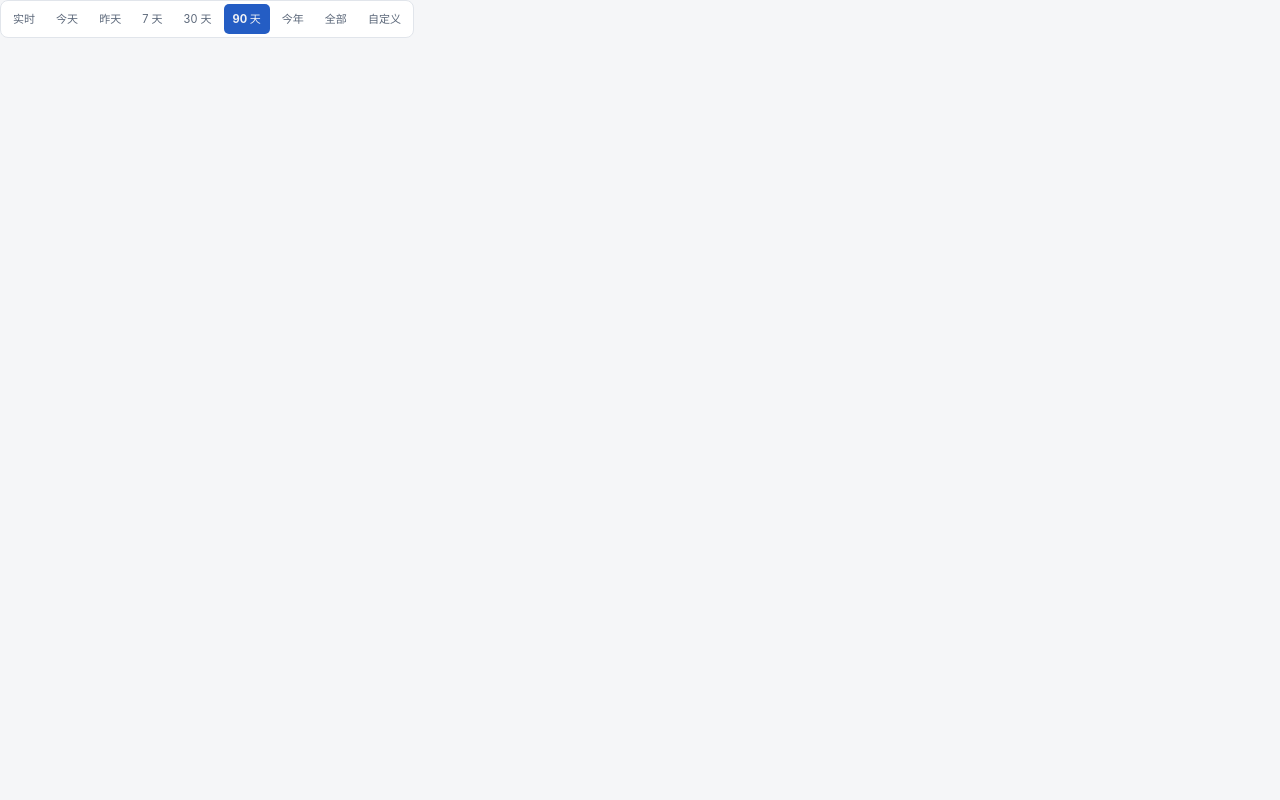
Test: RangeSelector › marks custom as selected while its dialog is open
The width and height of the screenshot is (1280, 800).
Step 1. Click the button "自定义" → x=384, y=19, box [359,4,410,34]
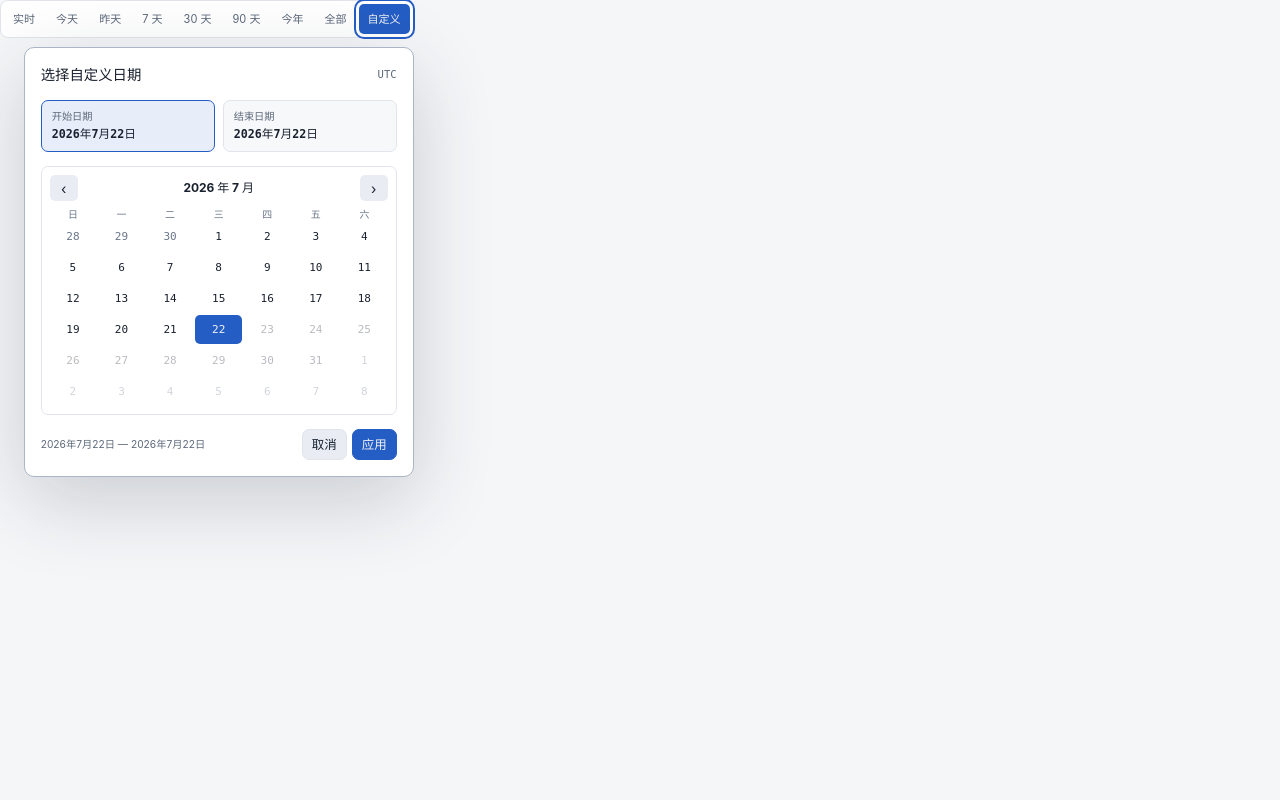
Expected: the dialog "选择自定义日期" is shown, [24,47,414,477]
